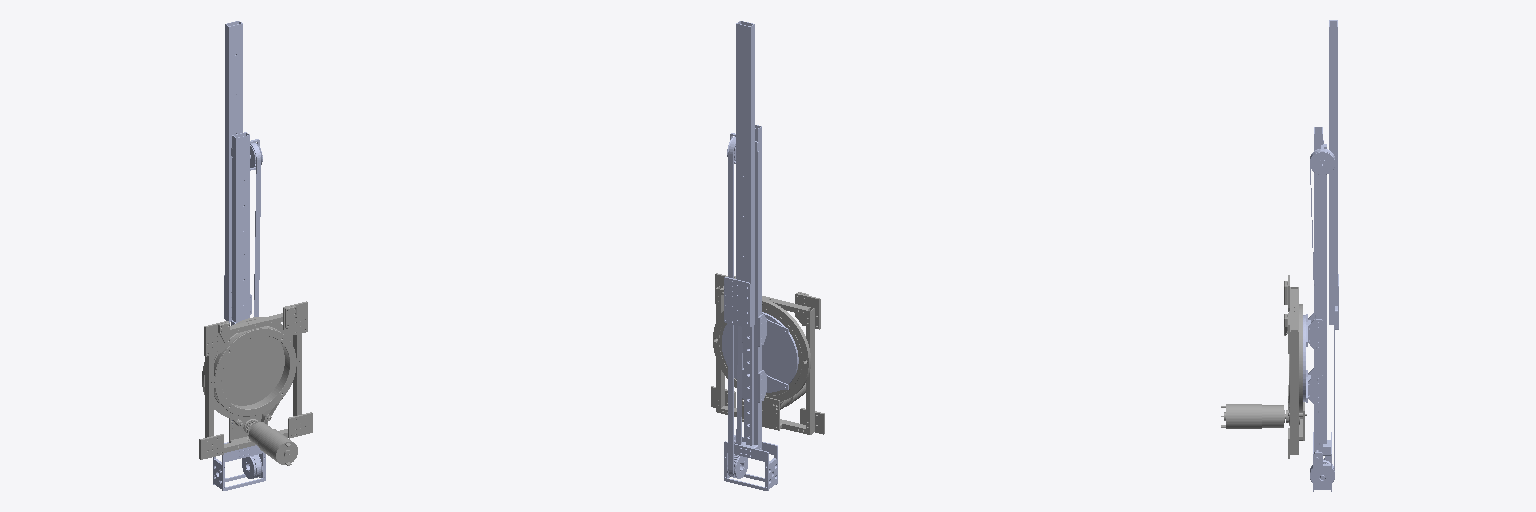
robot.urdf — arm_module:
<?xml version="1.0" ?>
<!-- =================================================================================== -->
<!-- |    This document was autogenerated by xacro from /home/a/ws_nhk/src/arm_module_description-20251221T061328Z-3-001/arm_module_description/urdf/arm_module.xacro | -->
<!-- |    EDITING THIS FILE BY HAND IS NOT RECOMMENDED                                 | -->
<!-- =================================================================================== -->
<robot name="arm_module">
  <material name="silver_default">
    <color rgba="0.700 0.700 0.700 1.000"/>
  </material>
  <material name="opaque202209238">
    <color rgba="0.792156862745098 0.8196078431372549 0.9333333333333333 1.0"/>
  </material>
  <transmission name="Slider 1_tran">
    <type>transmission_interface/SimpleTransmission</type>
    <joint name="Slider 1">
      <hardwareInterface>hardware_interface/EffortJointInterface</hardwareInterface>
    </joint>
    <actuator name="Slider 1_actr">
      <hardwareInterface>hardware_interface/EffortJointInterface</hardwareInterface>
      <mechanicalReduction>1</mechanicalReduction>
    </actuator>
  </transmission>
  <transmission name="Slider 3_tran">
    <type>transmission_interface/SimpleTransmission</type>
    <joint name="Slider 3">
      <hardwareInterface>hardware_interface/EffortJointInterface</hardwareInterface>
    </joint>
    <actuator name="Slider 3_actr">
      <hardwareInterface>hardware_interface/EffortJointInterface</hardwareInterface>
      <mechanicalReduction>1</mechanicalReduction>
    </actuator>
  </transmission>
  <transmission name="Revolute 2_tran">
    <type>transmission_interface/SimpleTransmission</type>
    <joint name="Revolute 2">
      <hardwareInterface>hardware_interface/EffortJointInterface</hardwareInterface>
    </joint>
    <actuator name="Revolute 2_actr">
      <hardwareInterface>hardware_interface/EffortJointInterface</hardwareInterface>
      <mechanicalReduction>1</mechanicalReduction>
    </actuator>
  </transmission>
  <link name="base_link">
    <inertial>
      <origin rpy="0 0 0" xyz="-0.602710189903657 1.2664041758747249 0.21962588167858854"/>
      <mass value="4.12657691243857"/>
      <inertia ixx="0.191862" ixy="7.1e-05" ixz="-0.005577" iyy="0.216756" iyz="-0.003451" izz="0.028733"/>
    </inertial>
    <visual>
      <origin rpy="0 0 0" xyz="0 0 0"/>
      <geometry>
        <mesh filename="package://arm_module_description/meshes/base_link.stl" scale="0.001 0.001 0.001"/>
      </geometry>
      <material name="silver_default"/>
    </visual>
    <collision>
      <origin rpy="0 0 0" xyz="0 0 0"/>
      <geometry>
        <mesh filename="package://arm_module_description/meshes/base_link.stl" scale="0.001 0.001 0.001"/>
      </geometry>
    </collision>
  </link>
  <link name="Link1_1">
    <inertial>
      <origin rpy="0 0 0" xyz="-0.09349892467755172 -0.004118501953947584 0.08810538837335552"/>
      <mass value="5.033382809917046"/>
      <inertia ixx="0.039548" ixy="-0.0" ixz="0.0" iyy="0.04537" iyz="-0.008034" izz="0.021334"/>
    </inertial>
    <visual>
      <origin rpy="0 0 0" xyz="0.503878 -1.289649 -0.143054"/>
      <geometry>
        <mesh filename="package://arm_module_description/meshes/Link1_1.stl" scale="0.001 0.001 0.001"/>
      </geometry>
      <material name="silver_default"/>
    </visual>
    <collision>
      <origin rpy="0 0 0" xyz="0.503878 -1.289649 -0.143054"/>
      <geometry>
        <mesh filename="package://arm_module_description/meshes/Link1_1.stl" scale="0.001 0.001 0.001"/>
      </geometry>
    </collision>
  </link>
  <link name="Link3_1">
    <inertial>
      <origin rpy="0 0 0" xyz="-0.025544172293384126 -0.0017111359661601266 0.23061838563249681"/>
      <mass value="0.7309277027703723"/>
      <inertia ixx="0.025495" ixy="-1.3e-05" ixz="0.000464" iyy="0.025594" iyz="0.000243" izz="0.000157"/>
    </inertial>
    <visual>
      <origin rpy="0 0 0" xyz="0.56881 -1.376949 -0.366521"/>
      <geometry>
        <mesh filename="package://arm_module_description/meshes/Link3_1.stl" scale="0.001 0.001 0.001"/>
      </geometry>
      <material name="opaque202209238"/>
    </visual>
    <collision>
      <origin rpy="0 0 0" xyz="0.56881 -1.376949 -0.366521"/>
      <geometry>
        <mesh filename="package://arm_module_description/meshes/Link3_1.stl" scale="0.001 0.001 0.001"/>
      </geometry>
    </collision>
  </link>
  <link name="Link2_1">
    <inertial>
      <origin rpy="0 0 0" xyz="0.0055366771377574064 0.02422946917541635 0.0433845920267909"/>
      <mass value="3.0778525023834677"/>
      <inertia ixx="0.119937" ixy="-0.000201" ixz="-0.000754" iyy="0.12129" iyz="-0.001025" izz="0.003057"/>
    </inertial>
    <visual>
      <origin rpy="0 0 0" xyz="0.597378 -1.318149 -0.271554"/>
      <geometry>
        <mesh filename="package://arm_module_description/meshes/Link2_1.stl" scale="0.001 0.001 0.001"/>
      </geometry>
      <material name="opaque202209238"/>
    </visual>
    <collision>
      <origin rpy="0 0 0" xyz="0.597378 -1.318149 -0.271554"/>
      <geometry>
        <mesh filename="package://arm_module_description/meshes/Link2_1.stl" scale="0.001 0.001 0.001"/>
      </geometry>
    </collision>
  </link>
  <joint name="Slider 1" type="prismatic">
    <origin rpy="0 0 0" xyz="-0.503878 1.289649 0.143054"/>
    <parent link="base_link"/>
    <child link="Link1_1"/>
    <axis xyz="0.0 0.0 1.0"/>
    <limit effort="100" lower="-0.125" upper="0.11" velocity="100"/>
  </joint>
  <joint name="Slider 3" type="prismatic">
    <origin rpy="0 0 0" xyz="0.028568 0.0588 0.094967"/>
    <parent link="Link2_1"/>
    <child link="Link3_1"/>
    <axis xyz="0.0 -0.0 1.0"/>
    <limit effort="100" lower="-0.3" upper="0.3" velocity="100"/>
  </joint>
  <joint name="Revolute 2" type="continuous">
    <origin rpy="0 0 0" xyz="-0.0935 0.0285 0.1285"/>
    <parent link="Link1_1"/>
    <child link="Link2_1"/>
    <axis xyz="-0.0 1.0 0.0"/>
  </joint>
</robot>

--- Render facts (derived) ---
3 views of the same robot in one strip: view 1: azimuth 30°, elevation 25°; view 2: azimuth 150°, elevation 25°; view 3: azimuth 270°, elevation 25° (orthographic).
Model arm_module with 4 links and 3 joints (1 continuous, 2 prismatic), rooted at base_link, posed all joints at 0.
Links seen in each view (by area): view 1: Link1_1, Link2_1, Link3_1; view 2: Link2_1, Link3_1, Link1_1; view 3: Link2_1, Link1_1, Link3_1.
Link boxes in pixels (x1=…): Link1_1: x1=199, y1=301, x2=312, y2=465; Link2_1: x1=213, y1=132, x2=265, y2=490; Link3_1: x1=224, y1=21, x2=251, y2=322; Link2_1: x1=722, y1=125, x2=798, y2=490; Link3_1: x1=724, y1=21, x2=754, y2=327; Link1_1: x1=711, y1=273, x2=824, y2=434; Link2_1: x1=1303, y1=127, x2=1334, y2=491; Link1_1: x1=1221, y1=275, x2=1306, y2=458; Link3_1: x1=1329, y1=20, x2=1338, y2=329.
Bounding box of the posed robot: 0.237 × 0.2167 × 0.923 m (x, y, z).
Meshes: 4 distinct files referenced, 3 mesh visuals loaded (3 binary STL); not drawn: 1 (reference not matched to a file when rendering).
